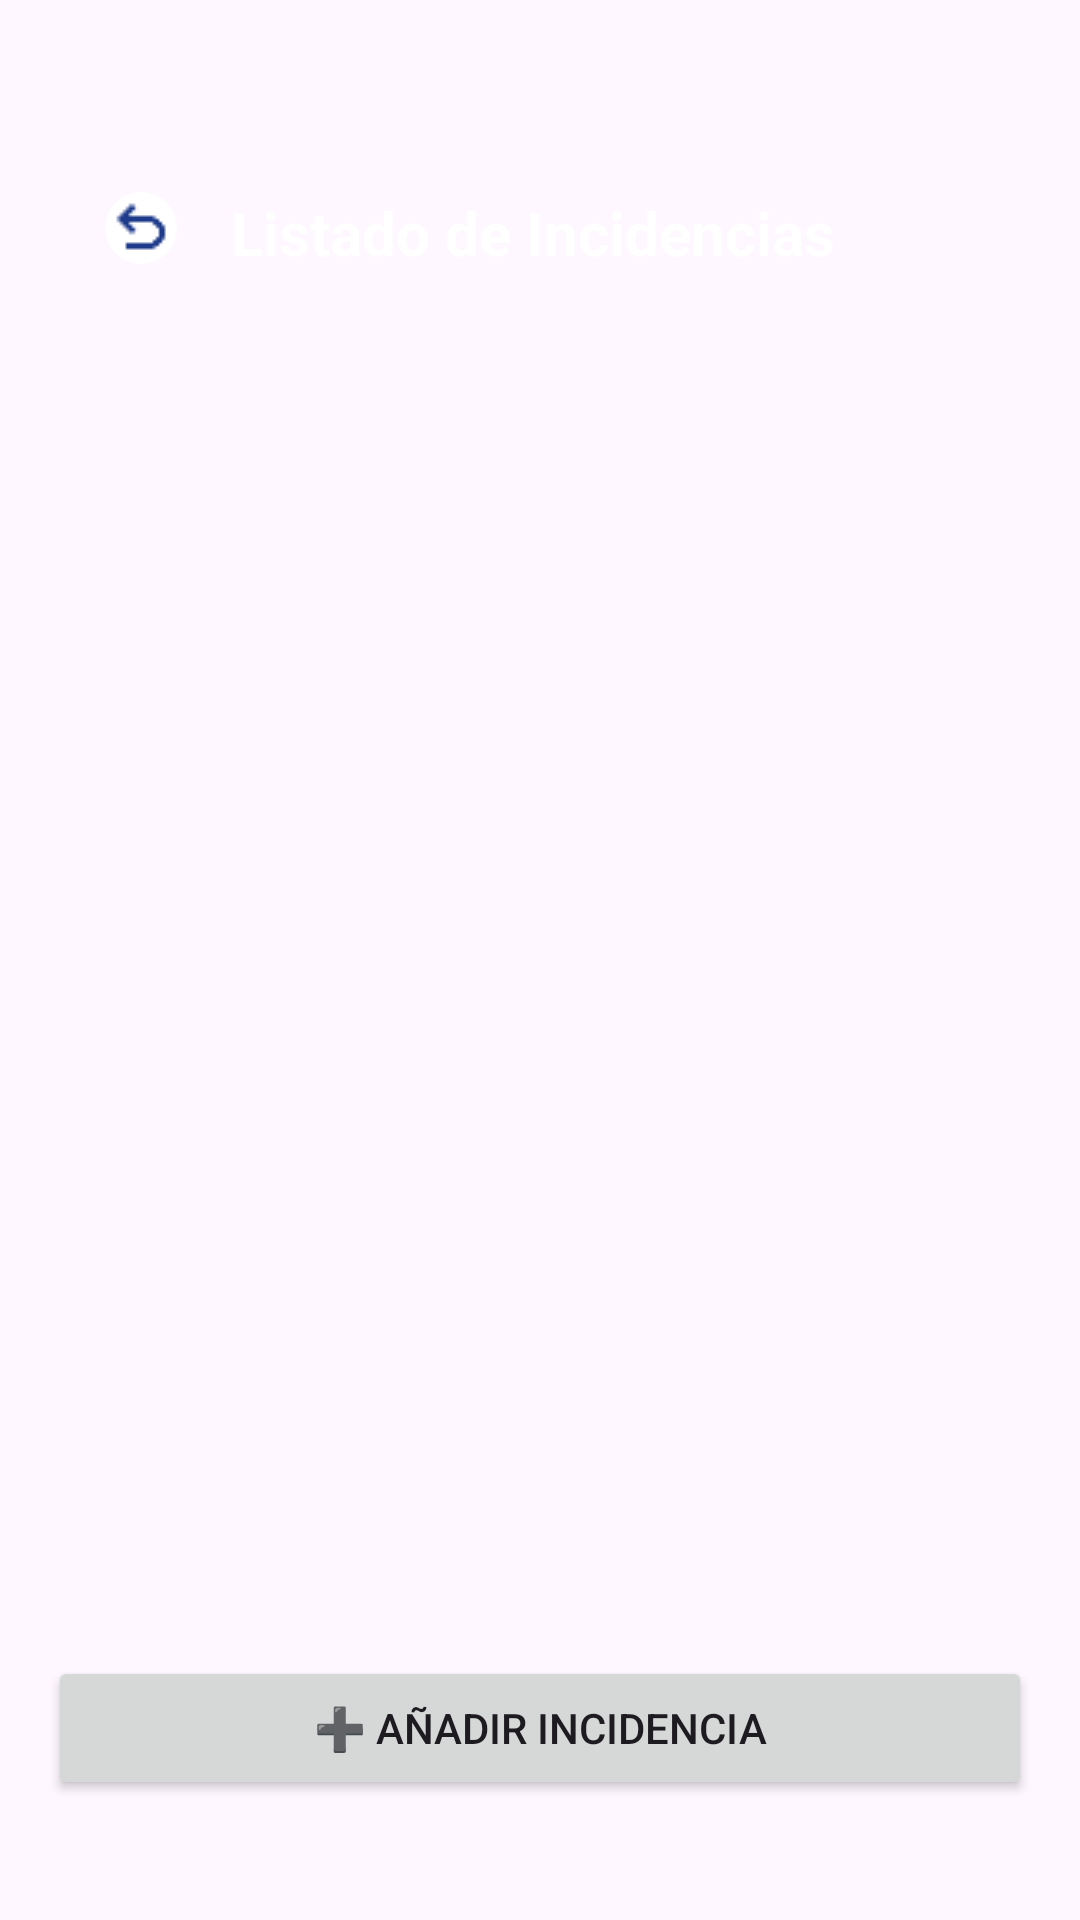

Point at icon controls on the screen. Image size 1080 x 1920, points as [x,y].
Volver al login: [141,226]
